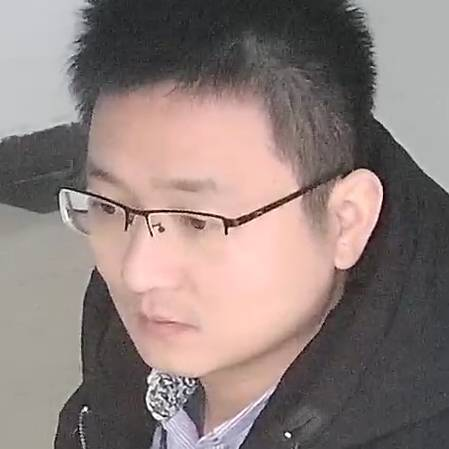gg: (31, 24, 403, 396)
